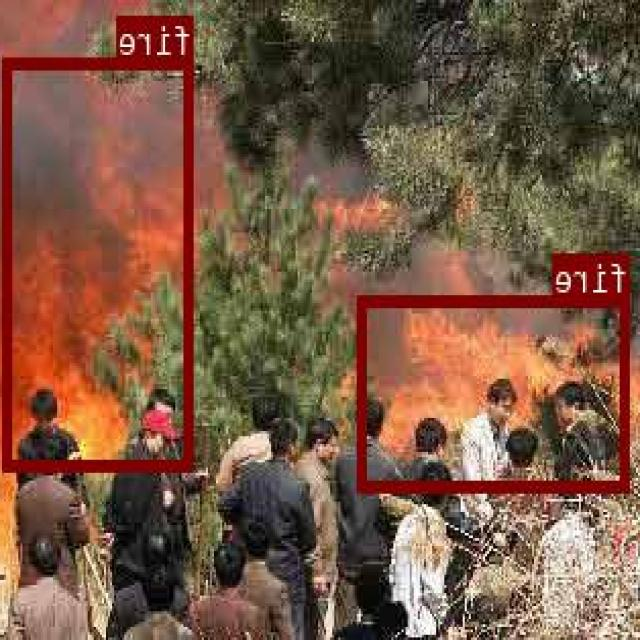fire: (5, 55, 196, 468), (360, 294, 630, 491)
